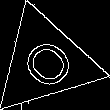O_SE: (11, 29, 79, 96)
